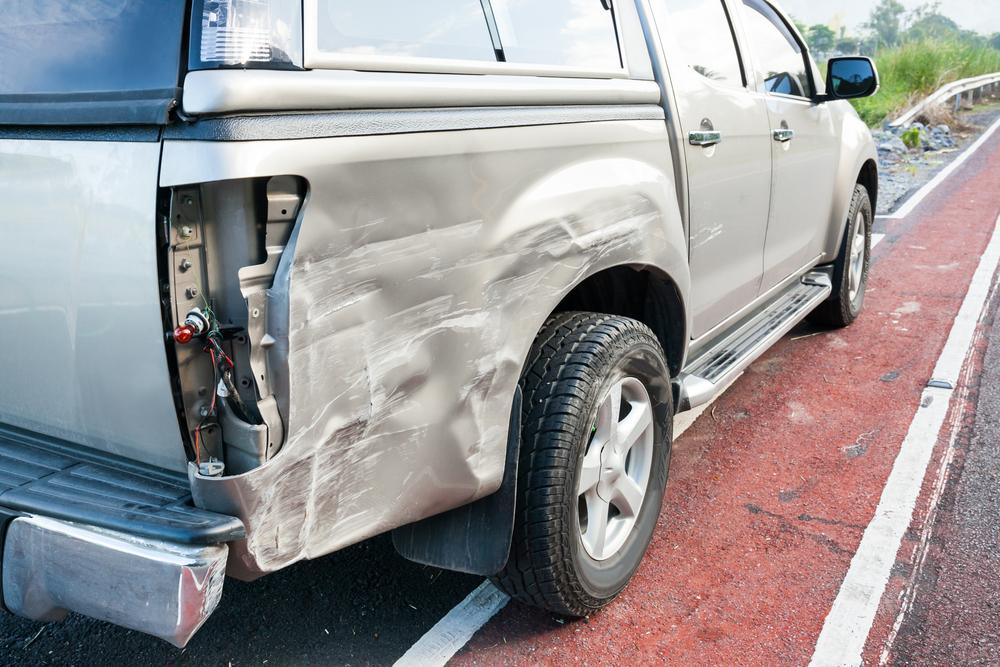dent: (237, 142, 667, 571)
